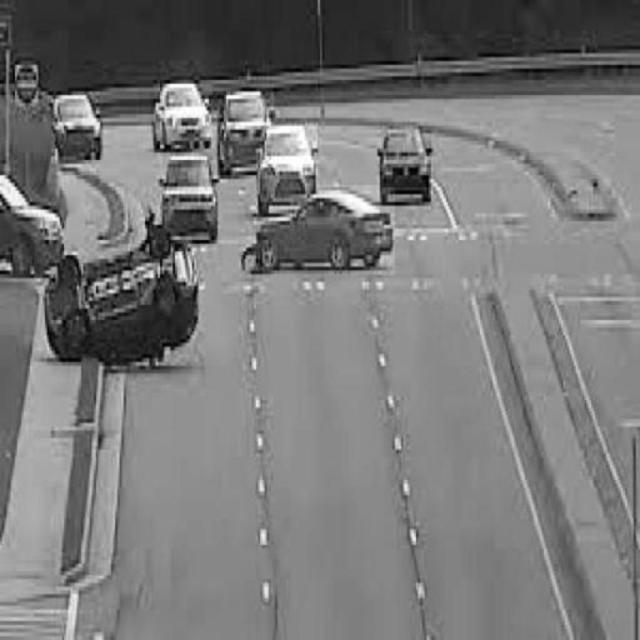vehicle: (49, 235, 197, 375), (262, 185, 394, 275), (164, 152, 218, 238), (265, 124, 319, 202), (224, 93, 274, 170), (158, 84, 213, 144), (53, 93, 101, 155), (381, 130, 431, 187)
